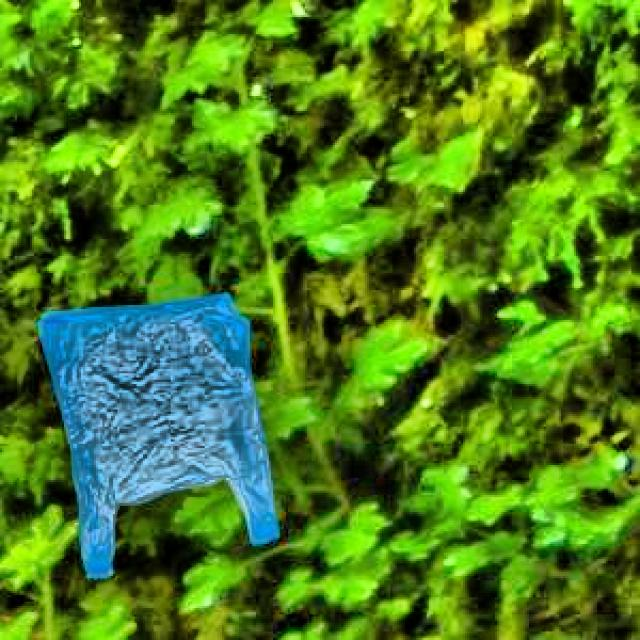Plastic: (22, 282, 290, 595)
